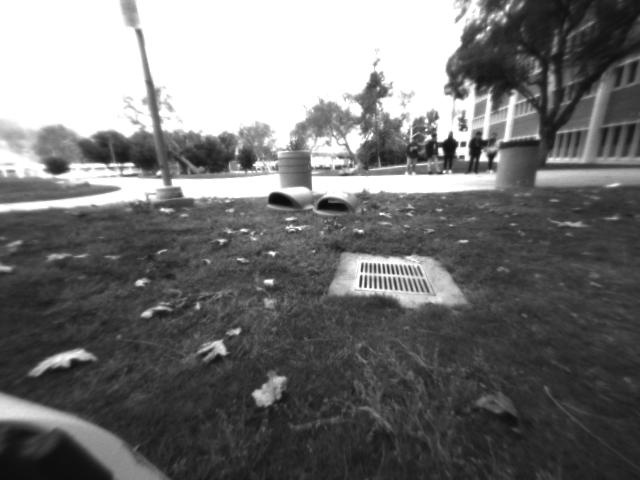trashcan: (492, 131, 547, 196), (270, 144, 318, 190)
